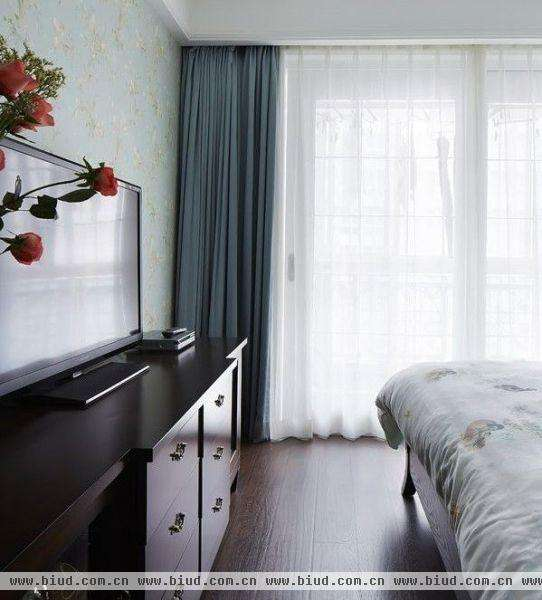床: (383, 351, 542, 571)
